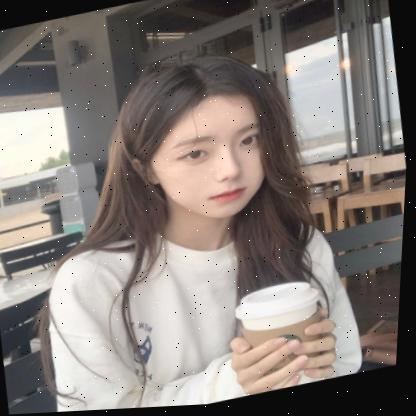person: (76, 28, 311, 244)
